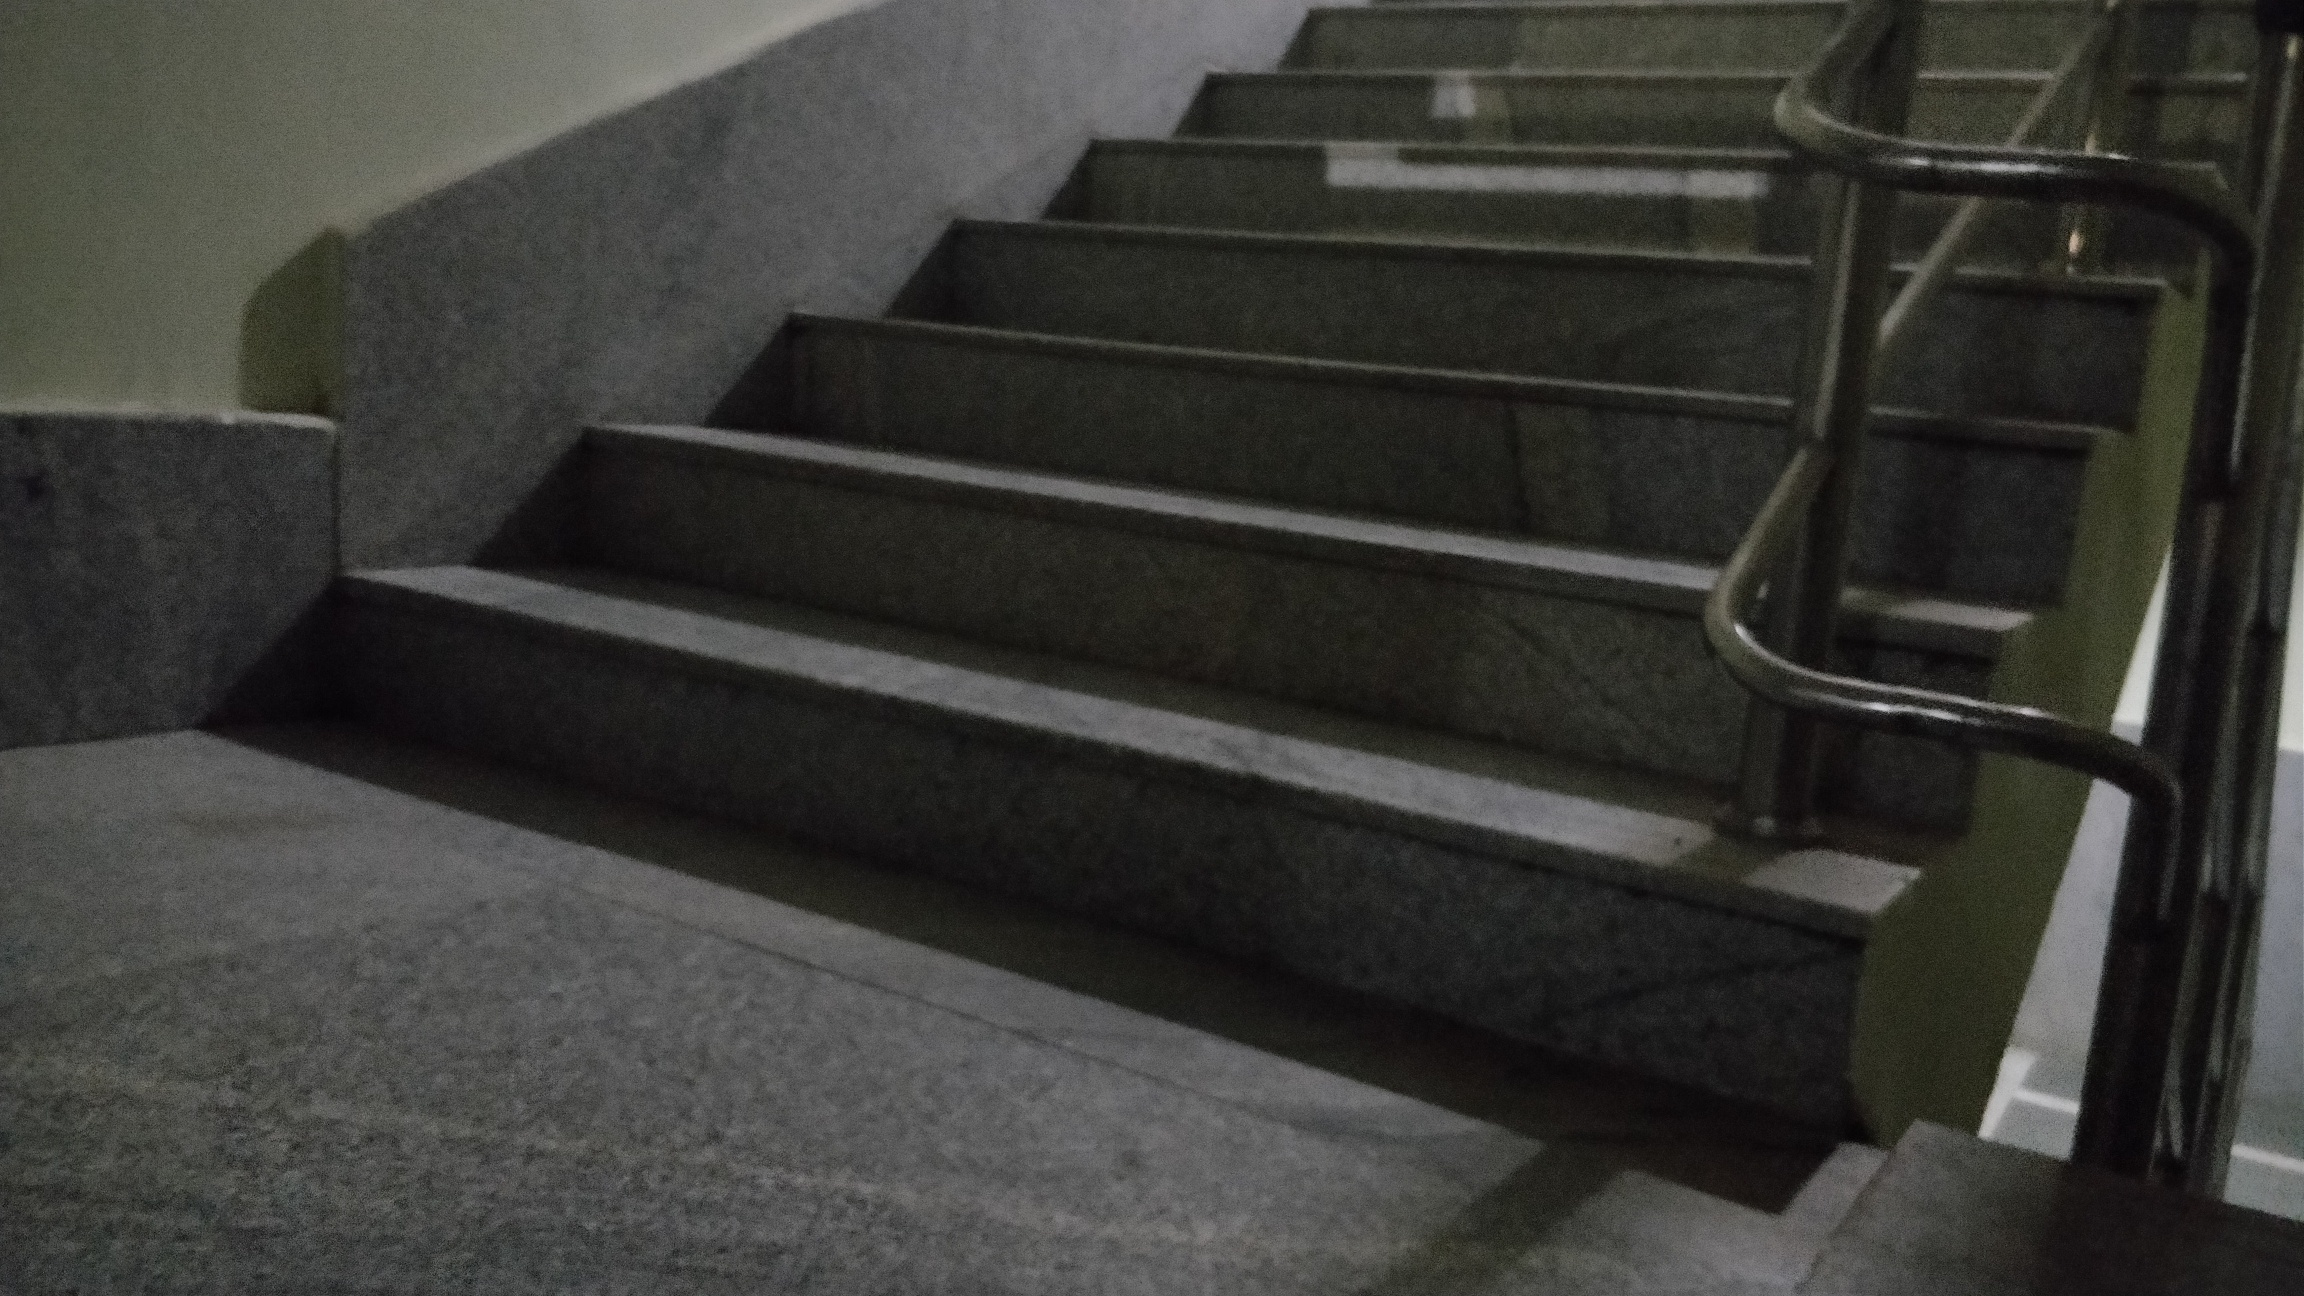stairs_up: (335, 19, 2234, 999)
